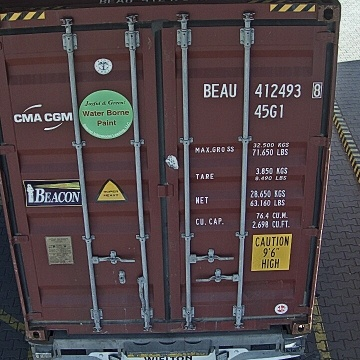serial_id: (203, 82, 322, 97)
